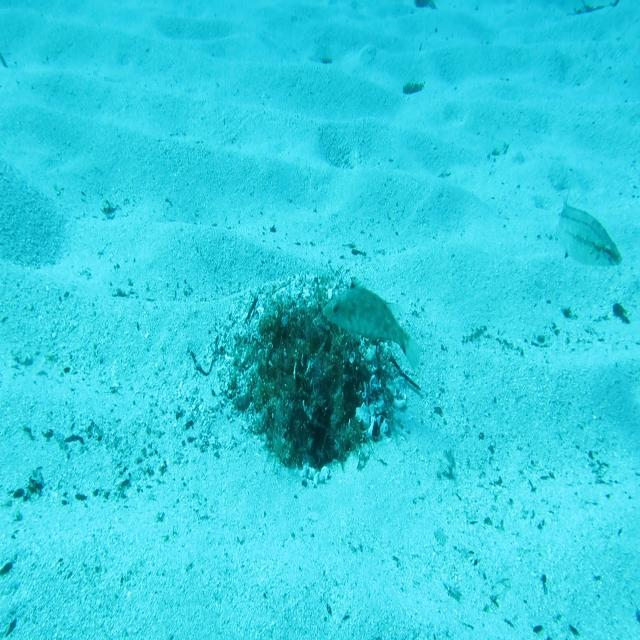BN: (319, 272, 424, 376)
core_nest: (283, 319, 324, 352)
female: (551, 183, 625, 270)
nest: (200, 261, 413, 502)
vegetation: (401, 81, 425, 97)
